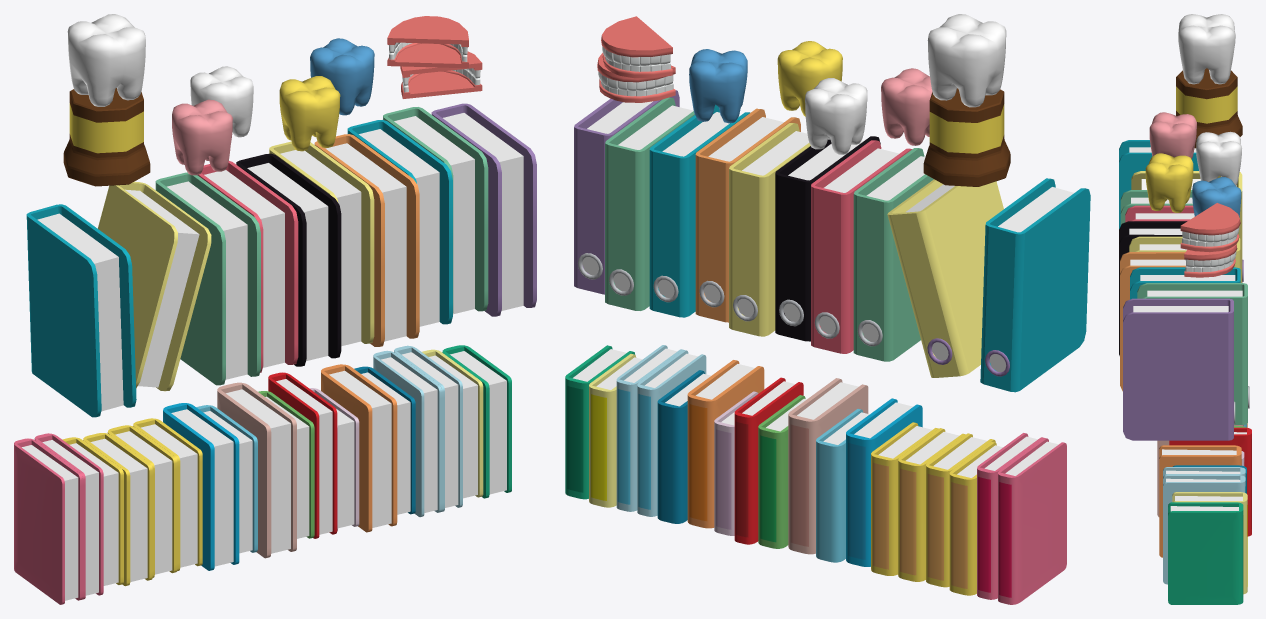
The model's file is Bookcase_content.fbx.
3 renders of one model, left to right at view 1: azimuth 30°, elevation 25°; view 2: azimuth 150°, elevation 25°; view 3: azimuth 270°, elevation 25°, orthographic. The views are drawn at different scales.
Visible parts, largest first — view 1: Bookcase_content; view 2: Bookcase_content; view 3: Bookcase_content.
Part boxes in pixels (box(x1,y1,x2,y2)): Bookcase_content: box(14, 14, 536, 604); Bookcase_content: box(565, 14, 1090, 604); Bookcase_content: box(1119, 14, 1251, 604).
Bounding box in the file's own units: 0.9905 × 1.13 × 0.3142.
